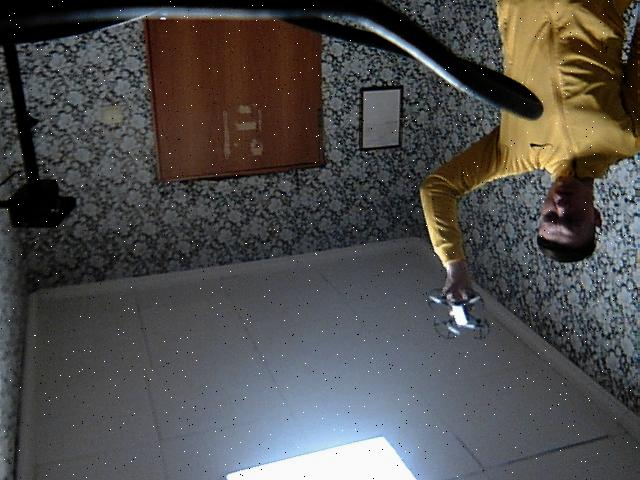drone: (424, 288, 490, 350)
